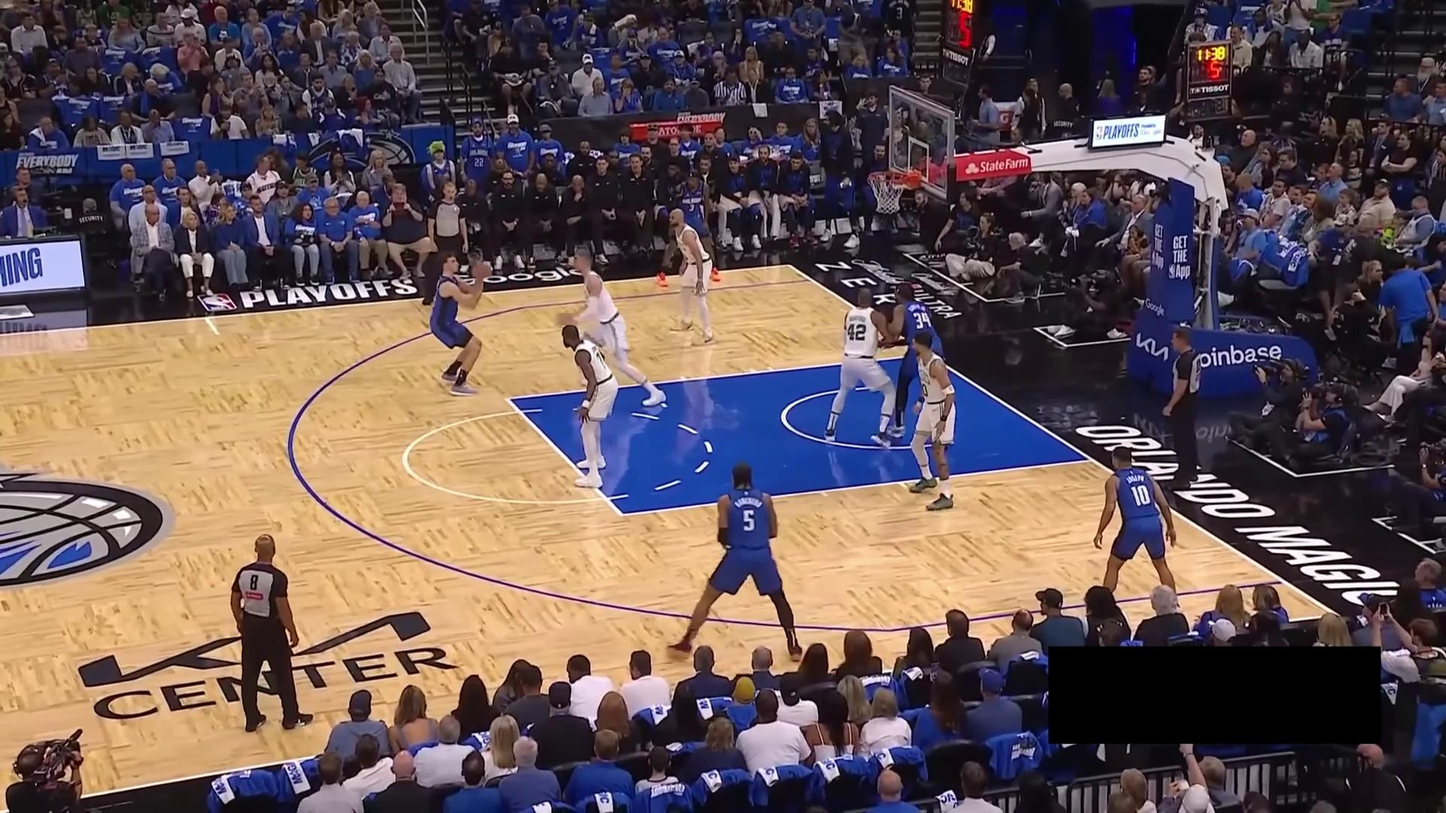ball: (472, 261, 491, 279)
number: (1130, 484, 1151, 507), (847, 323, 867, 342), (912, 312, 931, 330), (743, 509, 755, 532), (594, 352, 606, 370), (921, 382, 929, 396), (688, 202, 695, 212)
player: (666, 459, 804, 663), (554, 248, 668, 408), (1092, 445, 1180, 613), (822, 286, 901, 449), (560, 323, 620, 489), (882, 282, 945, 438), (909, 330, 955, 511), (655, 169, 722, 288), (667, 207, 715, 346)
player-in-possession: (429, 251, 492, 397)
referee: (230, 534, 313, 733), (1161, 326, 1203, 490), (420, 179, 469, 307)
rim: (868, 169, 908, 184)
